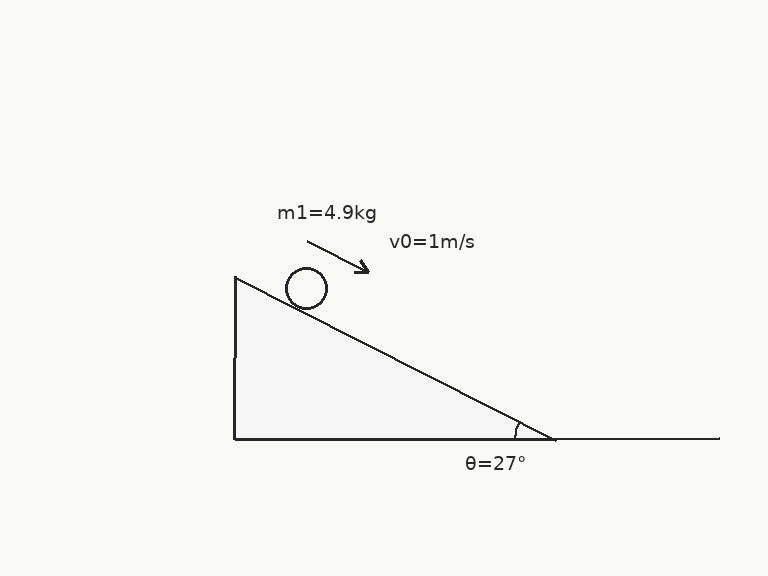ball: (283, 265, 329, 311)
ramp: (233, 274, 557, 441)
